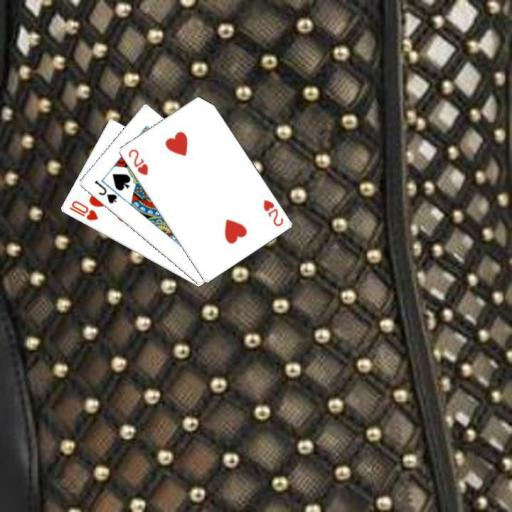10H: (66, 198, 100, 222)
2H: (260, 197, 285, 229), (125, 146, 150, 177)
JS: (91, 177, 119, 206)
